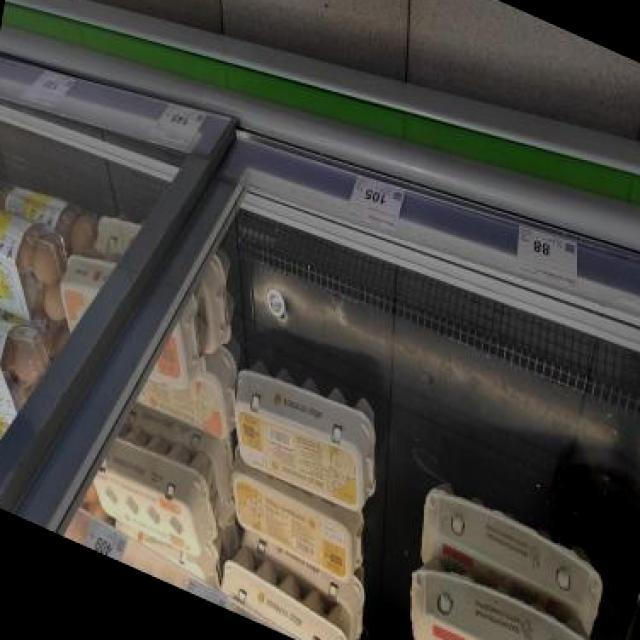egg: (225, 343, 389, 520), (221, 453, 373, 594), (394, 541, 610, 640)
